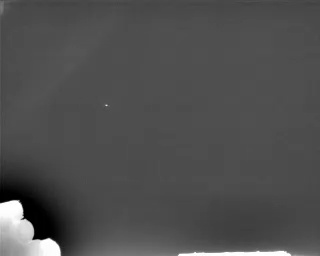BIRD: (103, 101, 110, 109)
